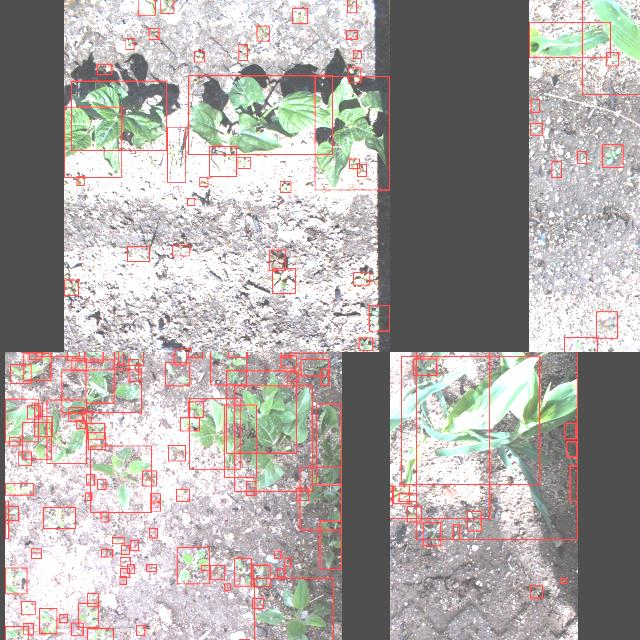crop: (415, 352, 577, 538), (400, 355, 540, 483), (390, 352, 489, 518), (188, 74, 332, 154), (314, 76, 390, 190), (234, 385, 312, 491), (70, 80, 166, 150), (63, 106, 121, 176), (188, 398, 240, 468), (528, 22, 610, 56), (46, 399, 86, 463), (316, 404, 342, 484), (5, 398, 38, 442)
weed: (226, 370, 296, 452), (254, 578, 333, 640), (90, 444, 150, 512), (61, 370, 141, 412), (299, 466, 341, 530), (224, 404, 256, 476), (177, 547, 210, 583), (85, 360, 113, 402), (210, 352, 246, 384), (167, 126, 186, 182), (319, 520, 341, 568), (22, 422, 50, 458), (208, 146, 236, 176), (22, 352, 50, 380), (42, 507, 74, 528), (164, 361, 190, 385), (4, 567, 26, 593), (272, 268, 294, 292), (369, 304, 389, 330), (596, 311, 616, 337), (77, 602, 97, 628), (234, 557, 252, 585), (301, 358, 329, 376), (563, 337, 596, 352), (602, 144, 622, 166), (38, 608, 56, 632), (252, 564, 270, 586), (422, 522, 440, 544), (10, 363, 30, 382), (268, 250, 286, 270), (33, 416, 51, 436), (414, 358, 436, 374), (87, 627, 113, 640), (4, 626, 28, 640), (127, 246, 149, 260), (4, 484, 34, 494), (117, 352, 142, 364), (86, 422, 104, 438), (569, 465, 577, 501), (393, 485, 409, 503), (467, 510, 481, 530), (168, 444, 185, 460), (88, 432, 104, 448), (179, 418, 199, 430), (137, 0, 154, 14), (292, 8, 308, 22), (63, 279, 77, 295), (210, 564, 224, 580), (142, 470, 156, 486), (188, 401, 202, 417), (128, 359, 138, 381), (171, 244, 189, 256), (20, 600, 34, 614), (68, 407, 82, 421), (26, 405, 40, 419), (407, 506, 421, 520), (353, 272, 369, 284), (348, 66, 360, 82), (280, 355, 296, 367), (70, 358, 86, 370), (564, 422, 576, 438), (83, 352, 102, 362), (358, 336, 372, 349), (5, 506, 18, 520), (256, 26, 268, 40), (606, 51, 618, 65), (86, 592, 98, 606), (70, 622, 82, 636), (18, 451, 30, 465), (530, 584, 542, 598), (96, 64, 112, 74), (551, 161, 561, 177), (160, 0, 173, 12), (173, 352, 186, 364), (4, 500, 8, 538), (237, 156, 249, 168), (529, 122, 541, 134), (176, 488, 188, 500), (296, 488, 308, 500), (398, 493, 416, 501), (246, 481, 256, 495), (567, 442, 577, 456), (238, 44, 246, 60), (321, 369, 329, 385), (280, 180, 290, 192), (576, 151, 586, 163), (23, 622, 33, 634), (81, 411, 91, 423), (8, 436, 20, 446), (66, 352, 83, 359), (530, 98, 538, 112), (34, 402, 42, 416), (452, 524, 460, 538), (194, 50, 204, 61), (358, 164, 367, 176), (347, 0, 356, 12), (113, 352, 122, 364), (349, 158, 359, 168), (148, 28, 158, 38), (150, 500, 160, 510), (120, 556, 130, 566), (288, 371, 298, 381), (30, 548, 40, 558), (252, 597, 262, 607), (111, 536, 123, 544), (100, 548, 112, 556), (27, 352, 40, 359), (346, 29, 356, 38), (150, 493, 160, 502), (96, 478, 105, 488), (125, 38, 133, 48), (136, 625, 144, 635), (149, 527, 157, 537), (119, 568, 129, 576), (121, 544, 129, 554), (130, 540, 138, 550), (100, 511, 108, 521), (85, 474, 93, 484), (199, 177, 207, 186), (188, 352, 202, 357), (353, 50, 361, 58), (58, 614, 66, 622), (126, 564, 134, 572), (76, 420, 84, 428), (277, 568, 285, 576), (284, 557, 292, 565), (200, 564, 210, 570), (146, 564, 156, 570), (186, 198, 194, 205), (281, 352, 291, 357), (76, 176, 82, 184), (119, 576, 125, 584), (85, 492, 91, 500), (274, 550, 280, 558), (224, 584, 230, 590), (560, 578, 566, 582), (239, 638, 249, 640)
